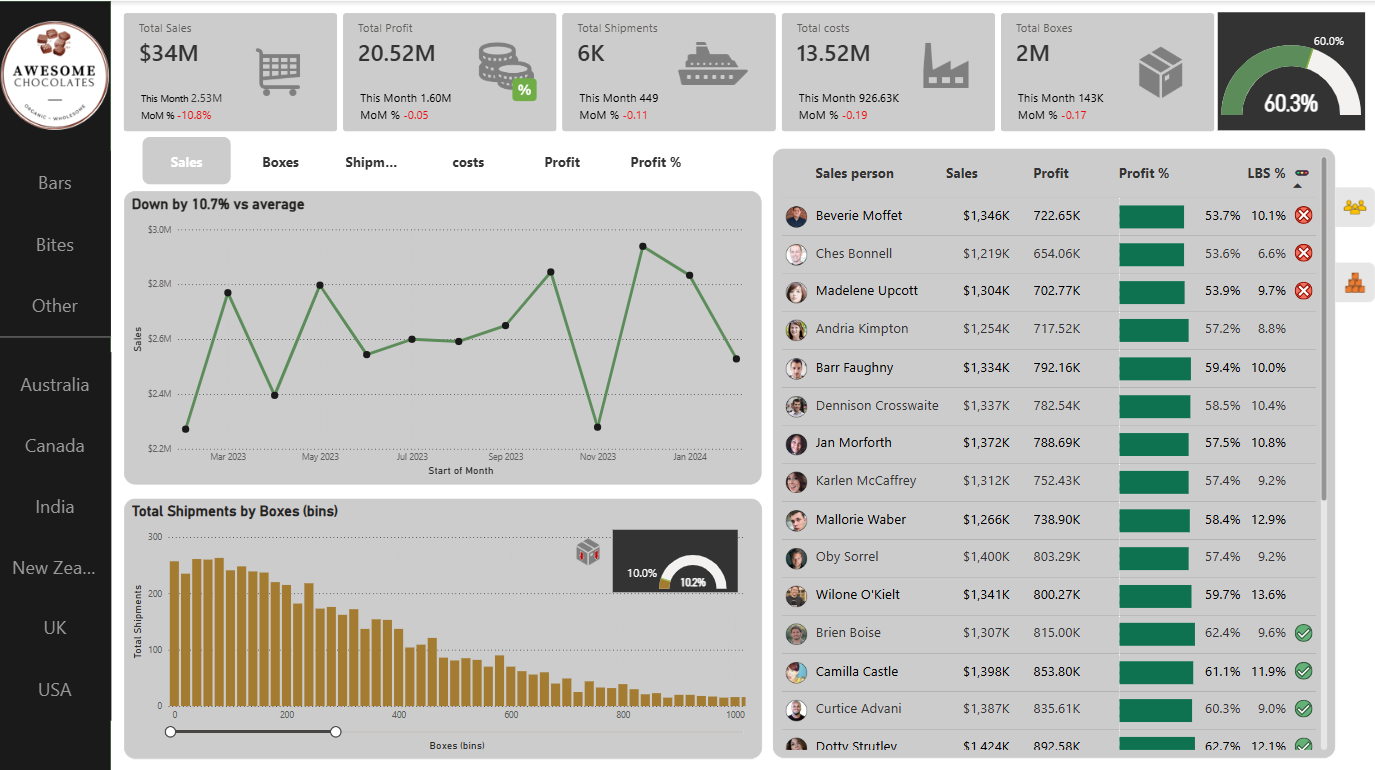

Layout of this report page (visuals, bound fields, positions):
{"tool":"powerbi","page":{"name":"sales Person","canvas":[1920,1080],"ordinal":2},"visuals":[{"type":"shape","box":[0,0,156.2,1080.2],"z":0},{"type":"cardVisual","fields":{"Data":["_Measure.Total Sales","_Measure.Total Profit","_Measure.Total Shipments","_Measure.Total costs","_Measure.Total Boxes"]},"box":[156.2,0,1557.4,199.6],"z":1000},{"type":"image","box":[334.9,59.3,113.4,80.2],"z":2000},{"type":"image","box":[650.6,47.1,116.9,102.9],"z":3000},{"type":"image","box":[929.7,36.6,134.3,102.9],"z":4000},{"type":"image","box":[1269.8,45.3,102.9,89],"z":5000},{"type":"image","box":[1576.7,55.8,89,87.2],"z":6000},{"type":"gauge","fields":{"Y":["_Measure.Profit %"]},"box":[1701.1,15.3,205.2,164.5],"z":7000},{"type":"image","box":[0,28.2,156.2,151.8],"z":8000},{"type":"lineChart","fields":{"Y":["_Measure.Total Sales"],"Category":["calendar.Start of Month"]},"box":[175,265,889.3,409.9],"z":9000},{"type":"advancedSlicerVisual","title":"Measure Selector","fields":{"Values":["Measure Selector.Measure Selector"]},"box":[195,185,788.5,76.9],"z":10000},{"type":"columnChart","fields":{"Category":["shipments.Boxes (bins)"],"Y":["_Measure.Total Shipments"]},"box":[175,694.5,890,363.1],"z":11000},{"type":"gauge","fields":{"Y":["_Measure.LBS %"]},"box":[856.5,737.8,174.4,87.2],"z":12000},{"type":"image","box":[798.8,737.8,46.2,61.5],"z":13000},{"type":"tableEx","title":"People Details","fields":{"Values":["people.Picture","people.Sales person","_Measure.Total Sales","_Measure.Total Profit","_Measure.Profit %","_Measure.LBS %","_Measure.Profit Target Indicater"]},"box":[1079.7,205.8,785,850],"z":14000},{"type":"advancedSlicerVisual","fields":{"Values":["locations.Geo"]},"box":[0,489.7,156.4,513.9],"z":16000},{"type":"advancedSlicerVisual","fields":{"Values":["products.Category"]},"box":[0,208.5,156.2,258.1],"z":17000},{"type":"shape","box":[0,448.7,156.4,41],"z":18000},{"type":"image","title":"People icon","box":[1865,241.7,55,90],"z":19000},{"type":"image","title":"Product icon","box":[1865,361.7,55,63.3],"z":20000}]}

Visuals, with their boxes on the page's 1920x1080 design canvas (x1, y1, x2, y2). These are canvas units, not pixel positions in the 1375x770 screenshot, which may show the page scaled, cropped or inside an application window:
shape: detection(0, 0, 156, 1080)
cardVisual - _Measure.Total Sales x _Measure.Total Profit: detection(156, 0, 1714, 200)
image: detection(335, 59, 448, 140)
image: detection(651, 47, 768, 150)
image: detection(930, 37, 1064, 140)
image: detection(1270, 45, 1373, 134)
image: detection(1577, 56, 1666, 143)
gauge - _Measure.Profit %: detection(1701, 15, 1906, 180)
image: detection(0, 28, 156, 180)
lineChart - _Measure.Total Sales x calendar.Start of Month: detection(175, 265, 1064, 675)
"Measure Selector" advancedSlicerVisual: detection(195, 185, 984, 262)
columnChart - shipments.Boxes (bins) x _Measure.Total Shipments: detection(175, 694, 1065, 1058)
gauge - _Measure.LBS %: detection(856, 738, 1031, 825)
image: detection(799, 738, 845, 799)
"People Details" tableEx: detection(1080, 206, 1865, 1056)
advancedSlicerVisual - locations.Geo: detection(0, 490, 156, 1004)
advancedSlicerVisual - products.Category: detection(0, 208, 156, 467)
shape: detection(0, 449, 156, 490)
"People icon" image: detection(1865, 242, 1920, 332)
"Product icon" image: detection(1865, 362, 1920, 425)
